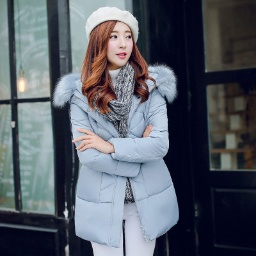face: (77, 16, 157, 109)
